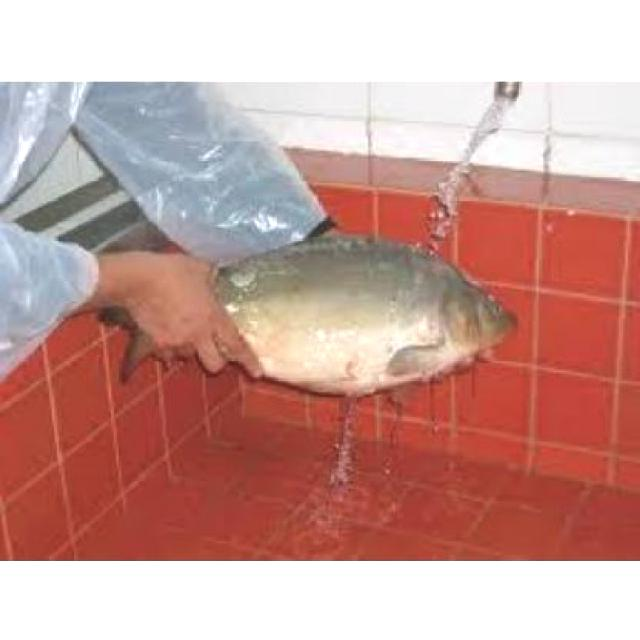ikan-mas: (119, 228, 515, 390)
